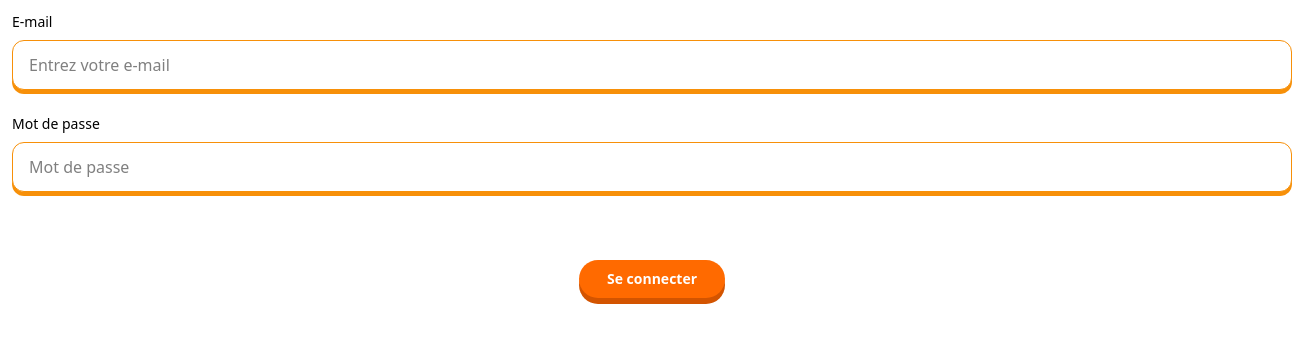
Test: LoginForm.vue › affiche une erreur si email est invalide
This screenshot has width=1304, height=345.
Type "invalid-email" into the field with id "email".
click(652, 65); type("invalid-email")  # box [12,40,1292,90]
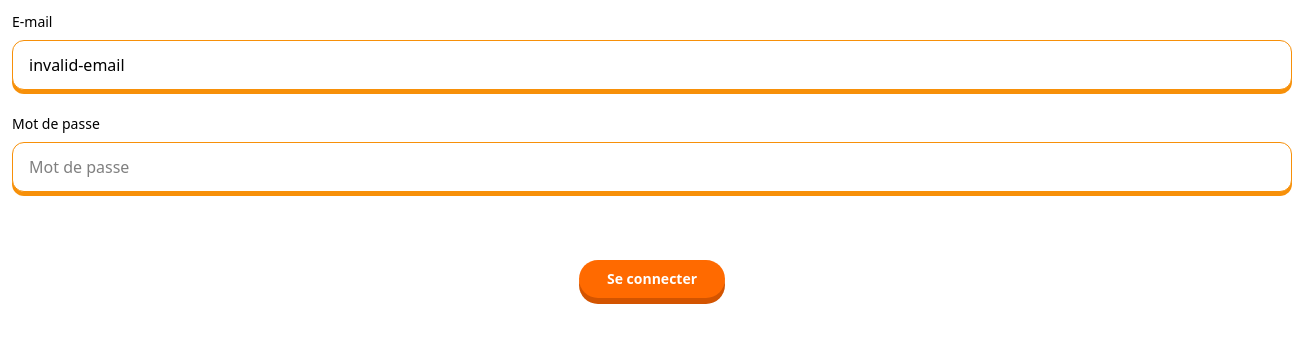
Type "123456" into the password field with placeholder "Mot de passe".
click(652, 167); type("123456")  # box [12,142,1292,192]
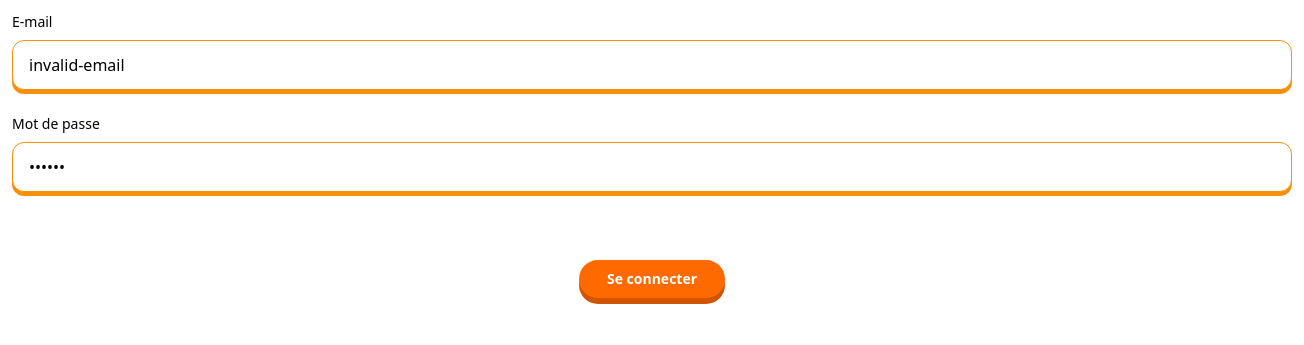
Submit the form
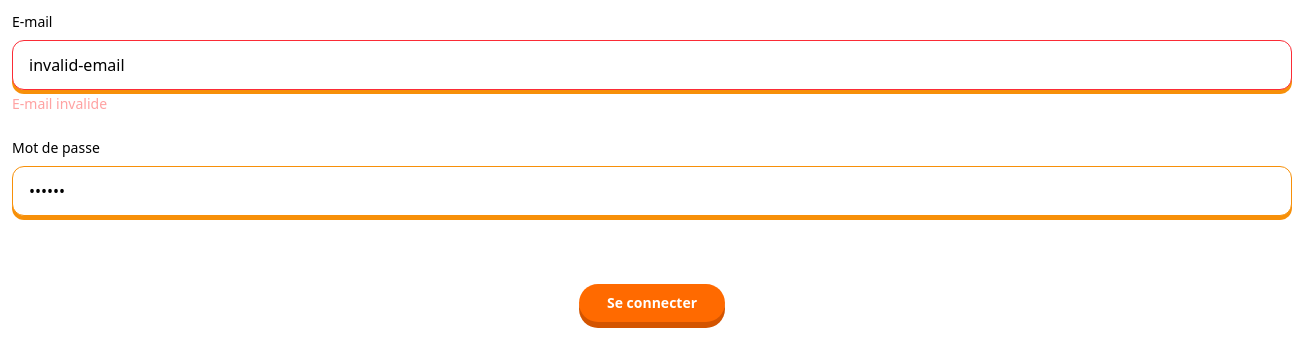
Result: the form shows "E-mail invalide" at [12,94,107,113]
